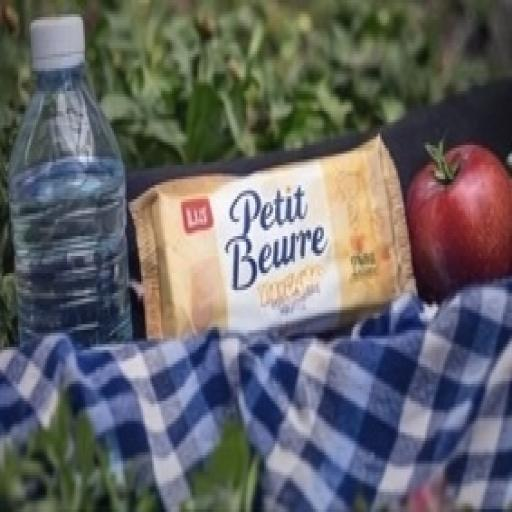petit-beurre: (92, 113, 454, 346)
